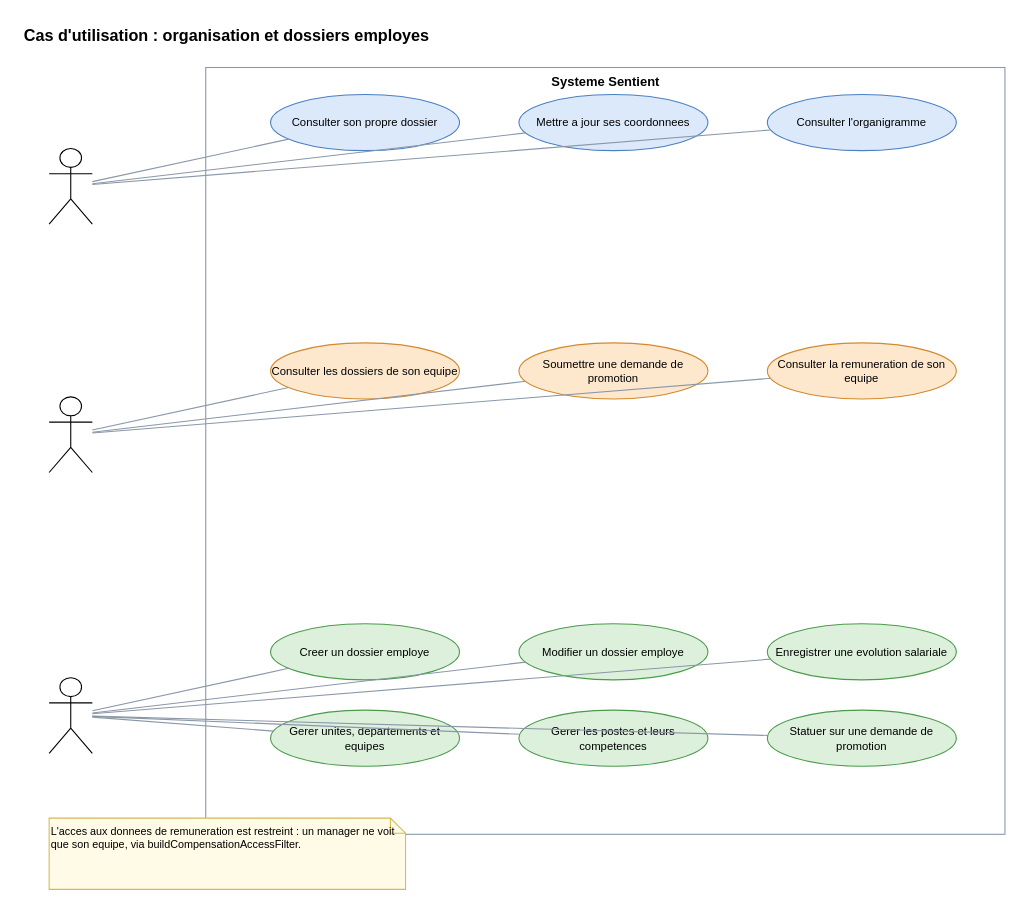
Image size: 1024x908. Some labels were removed from this diagram. Each missing label, with the centre of its shape:
Administrateur RH: point 70,715
Employe: point 70,185
Manager: point 70,434
